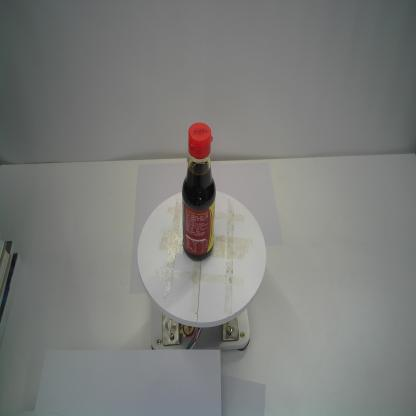Seasoner: (181, 121, 217, 263)
